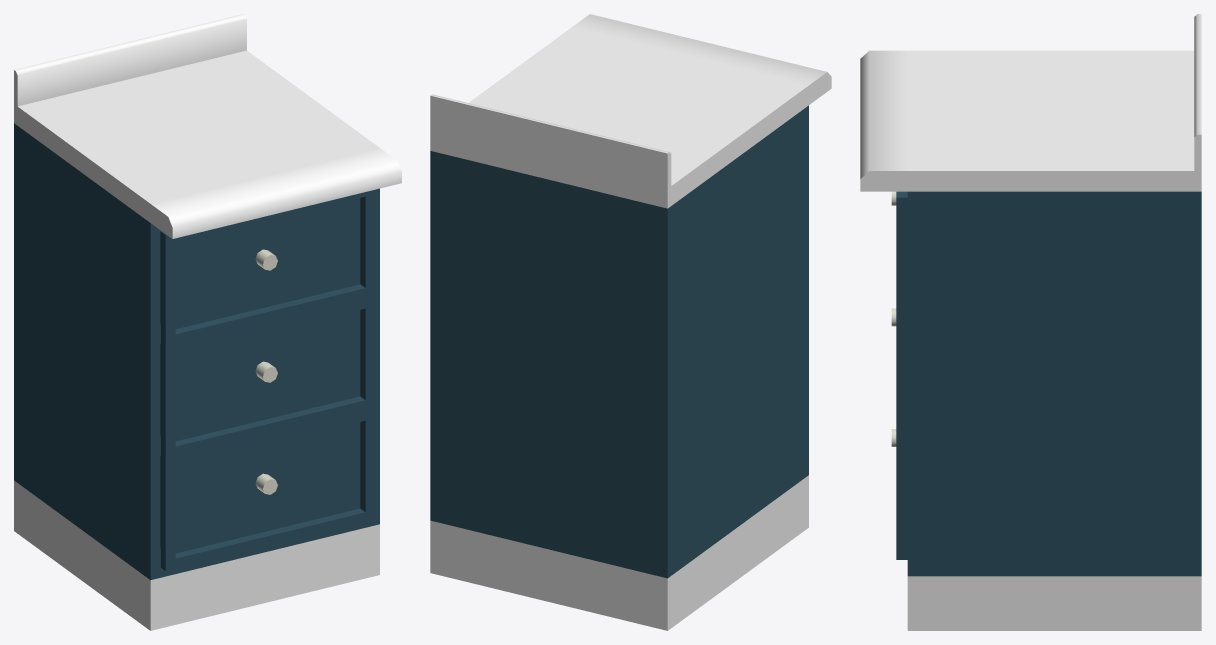
File: Kitchen_B.fbx
The picture shows the model from 3 angles, left to right: view 1: azimuth 30°, elevation 25°; view 2: azimuth 150°, elevation 25°; view 3: azimuth 270°, elevation 25°; orthographic projection. The views are drawn at different scales.
Parts seen in each view (by area): view 1: Kitchen_B, Kitchen_B_Shelf; view 2: Kitchen_B; view 3: Kitchen_B, Kitchen_B_Shelf.
Boxes of the visible parts, bbox=[...] form: Kitchen_B: bbox=[14, 14, 401, 630]; Kitchen_B_Shelf: bbox=[160, 190, 375, 346]; Kitchen_B: bbox=[430, 14, 831, 630]; Kitchen_B: bbox=[860, 14, 1201, 630]; Kitchen_B_Shelf: bbox=[891, 191, 907, 318].
Bounding box in the file's own units: 50 × 96.05 × 59.82.
